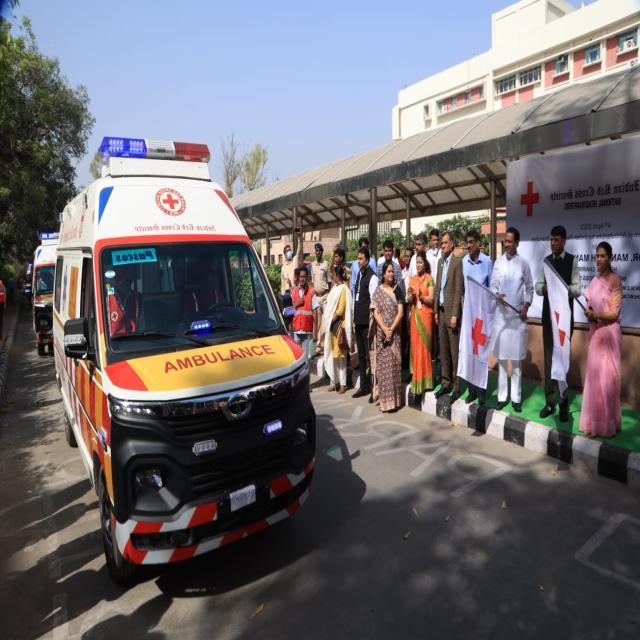emergency: (50, 137, 316, 582)
